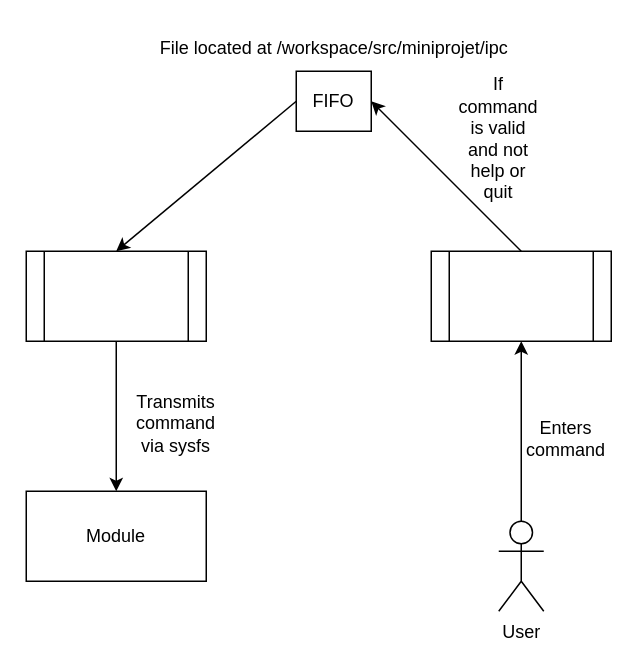
This 638x668 diagram has some shape labels left out. The shapes that lost their labels are listed below. From the top down, each one's centre as x and y in pixels, then its label:
[115,295]: Daemon
[520,295]: CLI
